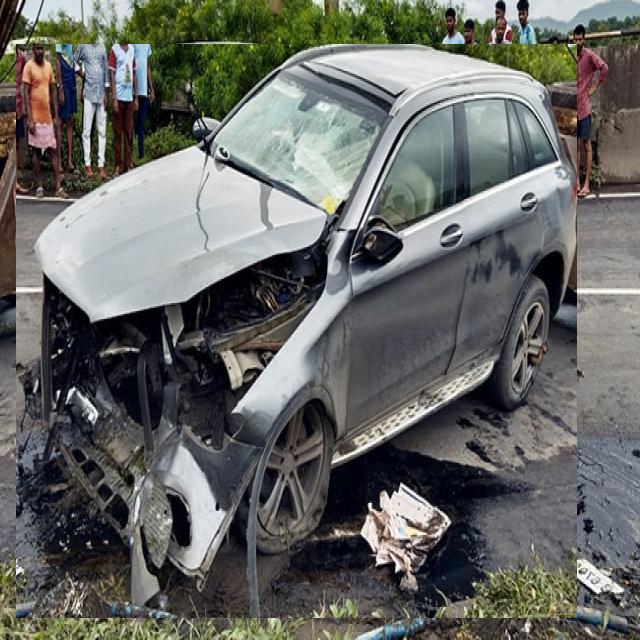accident: (16, 44, 576, 618)
